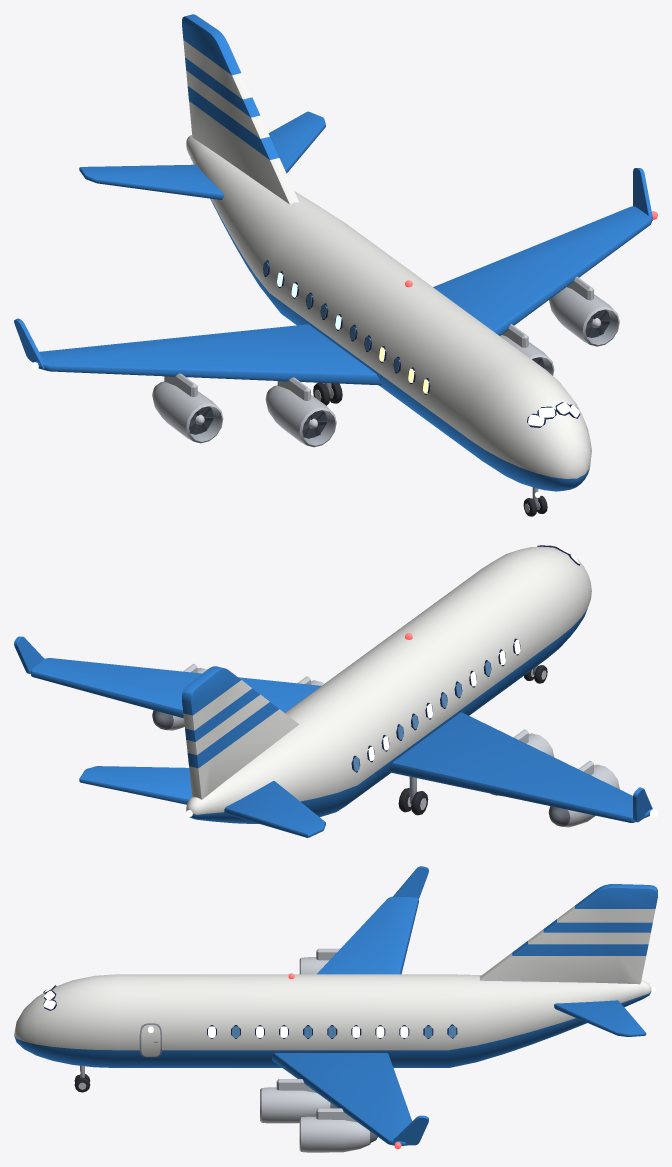
File: aviao_passageiros_azul.glb
3 views of the same model, one above another, from view 1: azimuth 30°, elevation 25°; view 2: azimuth 150°, elevation 25°; view 3: azimuth 270°, elevation 25° (orthographic). The views are drawn at different scales.
Visible parts, largest first — view 1: aviao_passageiros_azul; view 2: aviao_passageiros_azul, roda_dir; view 3: aviao_passageiros_azul, porta_cabine.
Part boxes in pixels (left/top/right/bottom): aviao_passageiros_azul: left=14, top=14, right=657, bottom=507; aviao_passageiros_azul: left=14, top=545, right=657, bottom=837; roda_dir: left=398, top=788, right=428, bottom=815; aviao_passageiros_azul: left=14, top=866, right=657, bottom=1152; porta_cabine: left=141, top=1025, right=160, bottom=1056.
Bounding box in the file's own units: 32.23 × 12.18 × 34.81.
6 materials, 1 textured.
